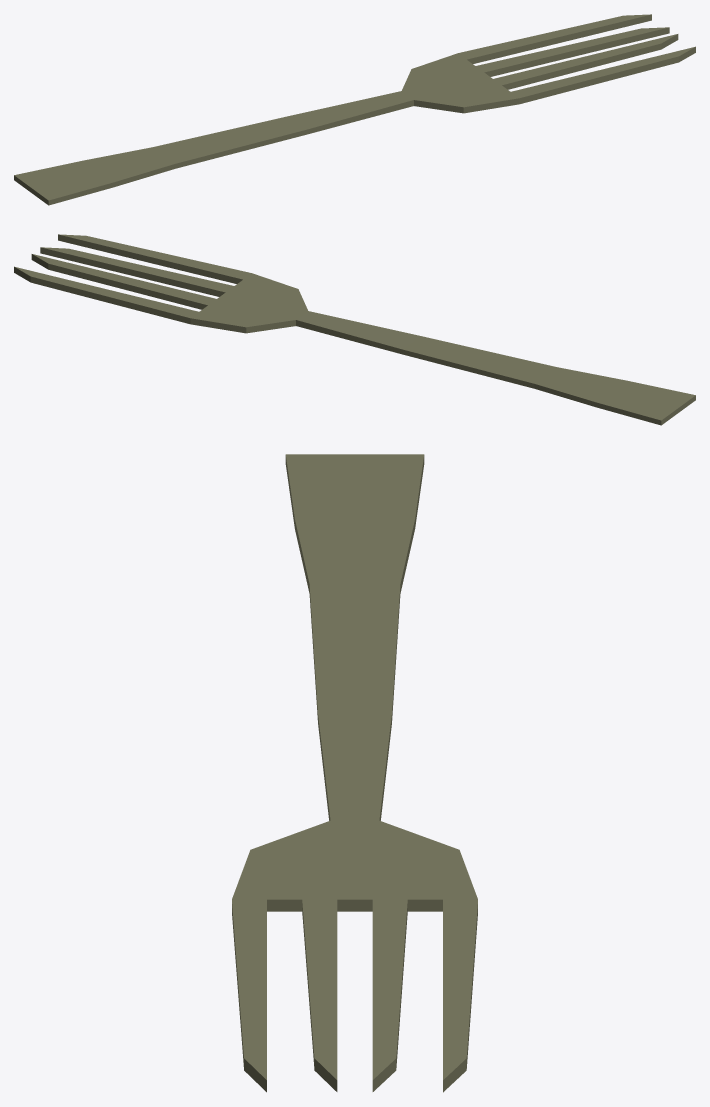
The model's file is forkLCn3091064.FBX.
3 renders of one model, top to bottom at view 1: azimuth 30°, elevation 25°; view 2: azimuth 150°, elevation 25°; view 3: azimuth 270°, elevation 25°, orthographic. The views are drawn at different scales.
Visible parts, largest first — view 1: Box003; view 2: Box003; view 3: Box003.
Part boxes in pixels (bbox=[...]): Box003: bbox=[14, 14, 695, 205]; Box003: bbox=[14, 234, 695, 425]; Box003: bbox=[232, 454, 477, 1092].
Size of the model in its own units: 13.6 by 0.1236 by 2.26.
